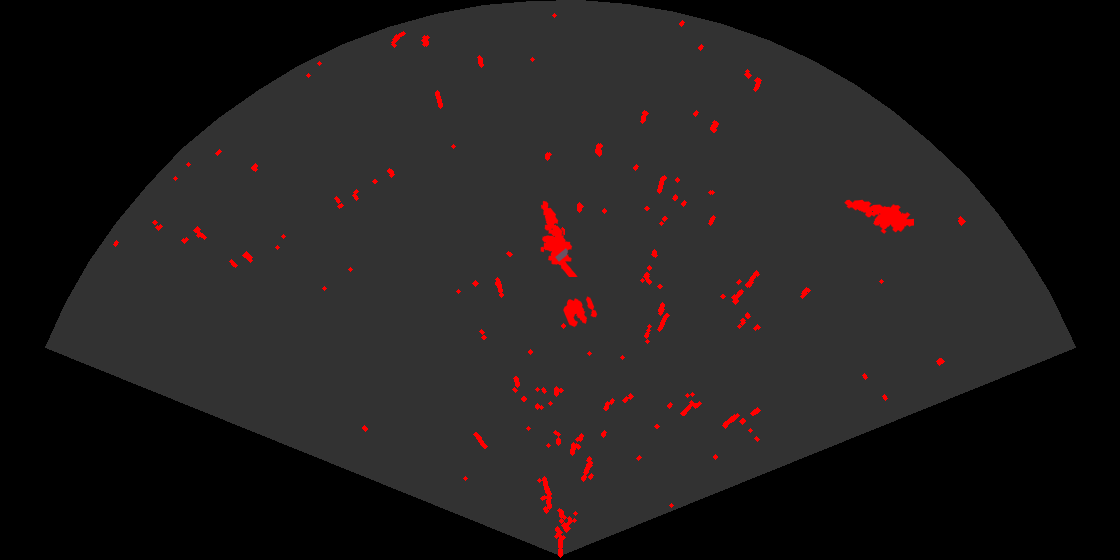ball: (562, 295, 599, 329)
frogman: (539, 199, 579, 277), (843, 198, 914, 235)
